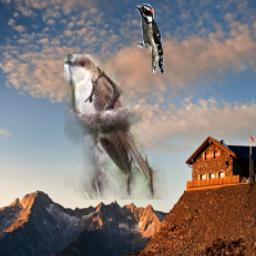Cuckoo: (64, 55, 168, 201)
Woodpecker: (136, 4, 165, 73)
